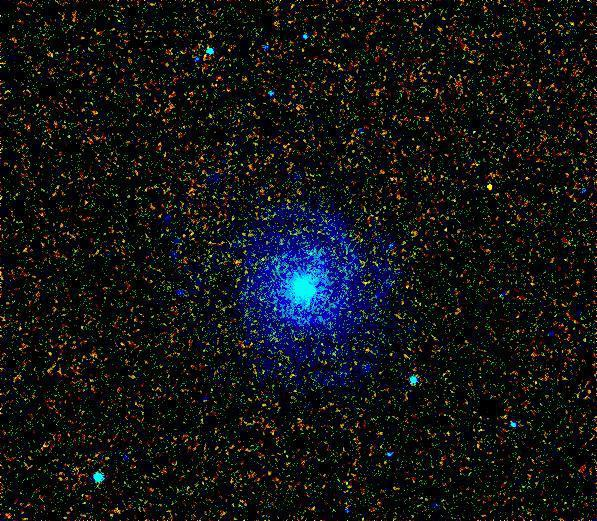star: (474, 174, 504, 204)
